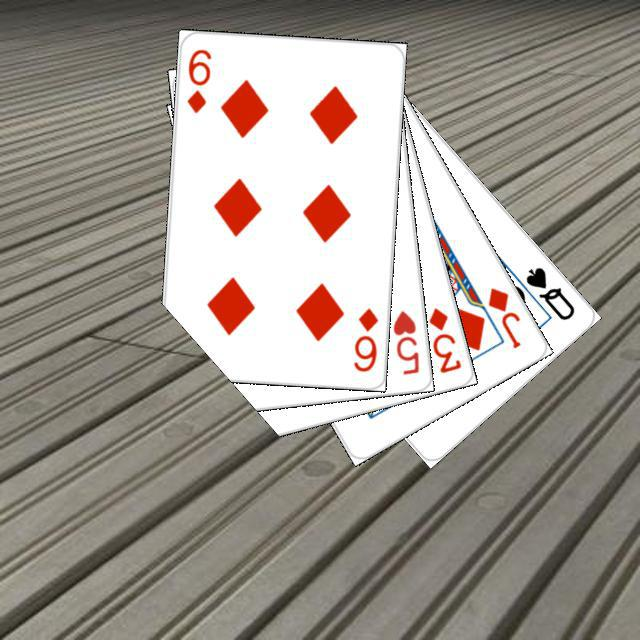3d: (424, 302, 463, 375)
5h: (388, 305, 421, 377)
6d: (348, 303, 379, 374), (182, 44, 213, 115)
Jd: (482, 282, 522, 351)
Qs: (520, 262, 577, 322)
